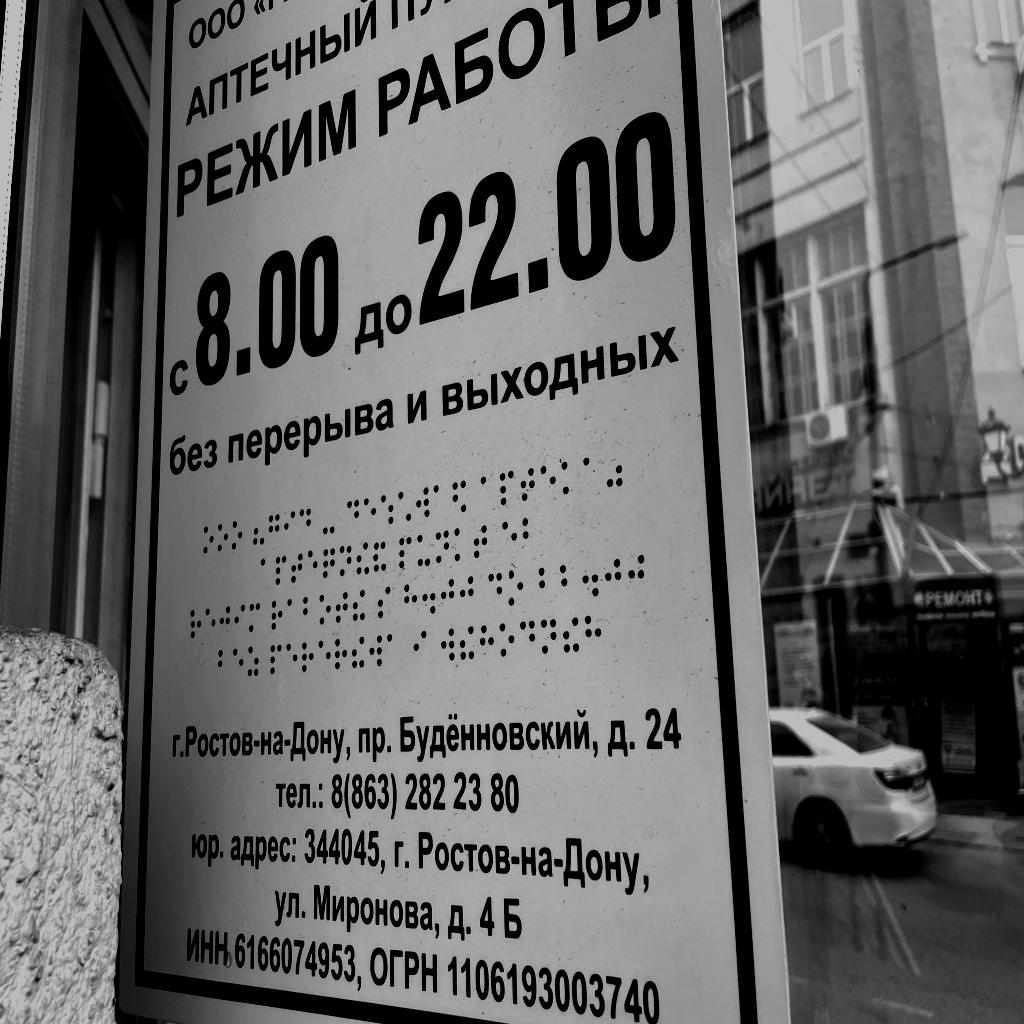_n: (540, 619, 558, 656), (435, 530, 450, 564), (339, 545, 352, 577)
_y: (417, 534, 431, 567)
a: (582, 457, 599, 493), (480, 476, 494, 506), (387, 633, 400, 665), (433, 484, 446, 515), (287, 599, 299, 628), (260, 558, 272, 585)
b: (303, 596, 316, 626), (217, 649, 229, 678)
ch: (322, 547, 336, 579)
d: (519, 620, 536, 656), (488, 572, 503, 607), (347, 499, 359, 529), (299, 508, 311, 536)
defis: (323, 506, 335, 535)
e: (540, 464, 556, 500), (364, 498, 377, 528), (318, 640, 331, 670), (286, 643, 298, 674), (308, 549, 319, 581), (205, 608, 216, 638), (233, 649, 244, 678)
g: (268, 514, 280, 543)
gh: (219, 606, 231, 635)
i: (413, 630, 427, 664), (284, 511, 296, 541), (234, 604, 245, 635)
iKratkoe: (373, 542, 387, 573)
ii: (563, 616, 580, 653), (459, 625, 475, 661), (351, 636, 366, 669), (356, 542, 370, 575), (352, 589, 366, 622)
k: (562, 460, 578, 496), (454, 528, 469, 563)
kavichki1: (253, 518, 265, 546)
kavichki2: (607, 453, 624, 488)
m: (249, 602, 261, 633)
o: (508, 569, 524, 607), (499, 623, 516, 658), (319, 594, 332, 626), (231, 521, 243, 550), (218, 523, 229, 552), (203, 526, 214, 554)
p: (499, 470, 514, 506), (399, 536, 412, 570), (270, 644, 282, 676), (275, 555, 287, 586)
r: (334, 638, 348, 671), (301, 641, 314, 673), (271, 600, 283, 631), (190, 610, 202, 640)
s: (377, 585, 392, 620)
sh: (380, 494, 395, 525)
t: (520, 467, 535, 502), (473, 524, 488, 559), (335, 591, 349, 624), (291, 553, 303, 585)
tochka: (582, 558, 599, 598), (422, 579, 436, 615)
v: (440, 627, 455, 662), (416, 486, 430, 519), (369, 634, 382, 668)
x: (584, 615, 602, 652), (479, 625, 495, 659)
ya: (451, 480, 467, 514)
yo: (398, 490, 412, 522)
z: (247, 646, 259, 677)
